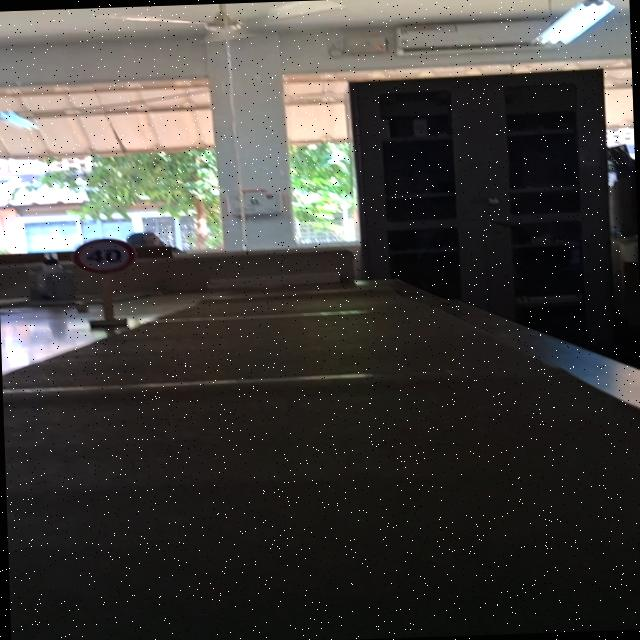Speed40: (68, 235, 140, 276)
